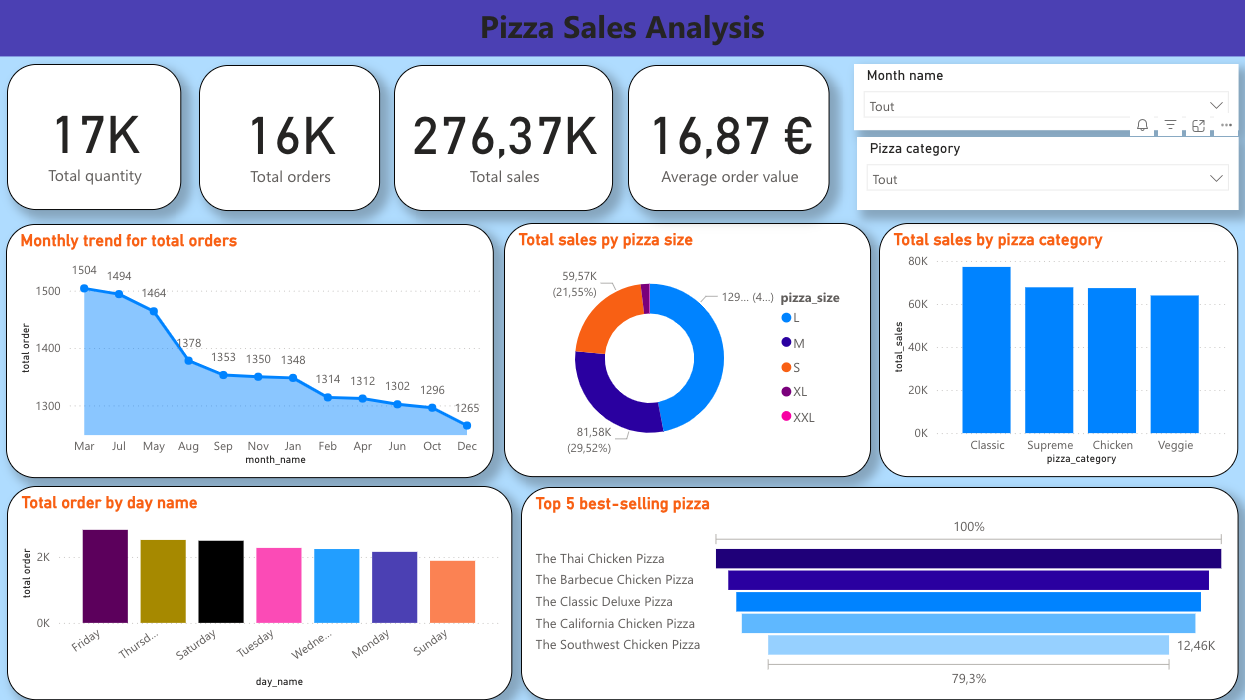

What the dashboard file says about the page in this screenshot:
{"tool":"powerbi","page":{"name":"Page 1","canvas":[1280,720],"ordinal":0},"visuals":[{"type":"textbox","box":[0,0,1280.4,59.4],"z":0},{"type":"card","fields":{"Values":["Sum(pizza_sales_analysis.quantity)"]},"box":[0,67.4,186.2,149.9],"z":1000},{"type":"card","fields":{"Values":["Sum(pizza_sales_analysis.order_id)"]},"box":[205.7,67.4,186.2,149.9],"z":2000},{"type":"card","fields":{"Values":["Sum(pizza_sales_analysis.total_sales)"]},"box":[405.2,67.4,225.2,149.9],"z":3000},{"type":"areaChart","title":"Monthly trend for total orders","fields":{"Category":["pizza_sales_analysis.month_name"],"Y":["Sum(pizza_sales_analysis.total order)"]},"box":[0,230.5,527.2,260.7],"z":4000},{"type":"columnChart","title":"Total order by day name","fields":{"Category":["pizza_sales_analysis.day_name"],"Y":["Sum(pizza_sales_analysis.total order)"]},"box":[0,500.9,527.2,218.8],"z":5000},{"type":"donutChart","title":"Total sales py pizza size","fields":{"Y":["Sum(pizza_sales_analysis.total_sales)"],"Category":["pizza_sales_analysis.pizza_size"]},"box":[536.9,230.5,333.6,260.7],"z":6000},{"type":"columnChart","title":"Total sales by pizza category","fields":{"Category":["pizza_sales_analysis.pizza_category"],"Y":["Sum(pizza_sales_analysis.total_sales)"]},"box":[878.3,230.5,394.9,260.7],"z":7000},{"type":"funnel","title":"Top 5 best-selling pizza ","fields":{"Category":["pizza_sales_analysis.pizza_name"],"Y":["Sum(pizza_sales_analysis.total_sales)"]},"box":[535.9,500.9,737.3,218.8],"z":8000},{"type":"slicer","fields":{"Values":["pizza_sales_analysis.month_name"]},"box":[878.3,67.1,394.9,68.1],"z":9000},{"type":"card","fields":{"Values":["pizza_sales_analysis.Avg order value"]},"box":[646.4,67.4,207.5,149.9],"z":10000},{"type":"slicer","fields":{"Values":["pizza_sales_analysis.pizza_category"]},"box":[881.2,142,392,74.9],"z":11000}]}

Visuals, with their boxes in screenshot pixels (x1, y1, x2, y2), scaled from the page's 1280x720 canvas onto the 1245x700 screenshot:
textbox: <box>0,0,1244,58</box>
card - Sum(pizza_sales_analysis.quantity): <box>0,66,181,211</box>
card - Sum(pizza_sales_analysis.order_id): <box>200,66,381,211</box>
card - Sum(pizza_sales_analysis.total_sales): <box>394,66,613,211</box>
"Monthly trend for total orders" areaChart: <box>0,224,513,478</box>
"Total order by day name" columnChart: <box>0,487,513,699</box>
"Total sales py pizza size" donutChart: <box>522,224,847,478</box>
"Total sales by pizza category" columnChart: <box>854,224,1238,478</box>
"Top 5 best-selling pizza " funnel: <box>521,487,1238,699</box>
slicer - pizza_sales_analysis.month_name: <box>854,65,1238,131</box>
card - pizza_sales_analysis.Avg order value: <box>629,66,831,211</box>
slicer - pizza_sales_analysis.pizza_category: <box>857,138,1238,211</box>
